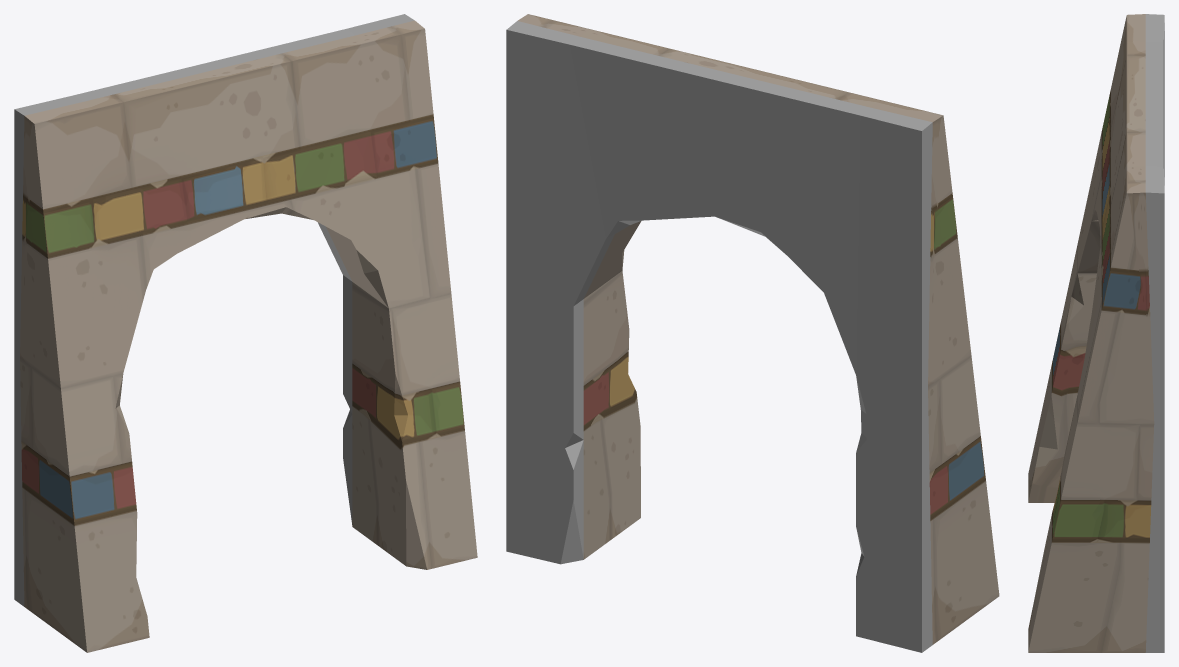
File: SM_Bld_Archway_Temple_Top_01.fbx
3 renders of one model, left to right at view 1: azimuth 30°, elevation 25°; view 2: azimuth 150°, elevation 25°; view 3: azimuth 270°, elevation 25°, orthographic. The views are drawn at different scales.
Parts seen in each view (by area): view 1: SM_Bld_Archway_Temple_Top_01; view 2: SM_Bld_Archway_Temple_Top_01; view 3: SM_Bld_Archway_Temple_Top_01.
Part boxes in pixels (left/top/right/bottom): SM_Bld_Archway_Temple_Top_01: left=14, top=14, right=477, bottom=652; SM_Bld_Archway_Temple_Top_01: left=506, top=14, right=999, bottom=652; SM_Bld_Archway_Temple_Top_01: left=1028, top=14, right=1164, bottom=652.
Size of the model in its own units: 500 by 601 by 162.
